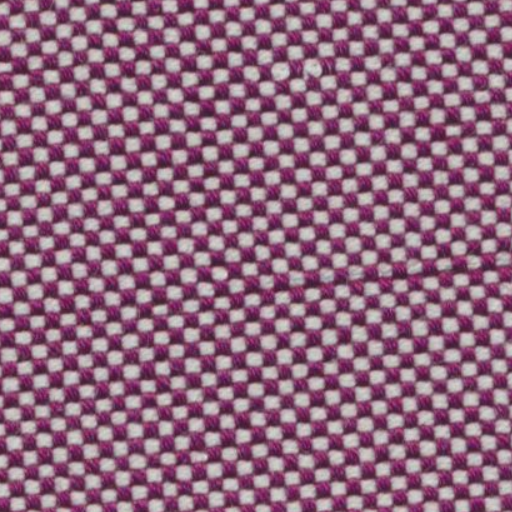TuoSha: (16, 244, 504, 340)
